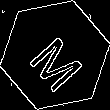M_NE: (22, 21, 88, 89)
